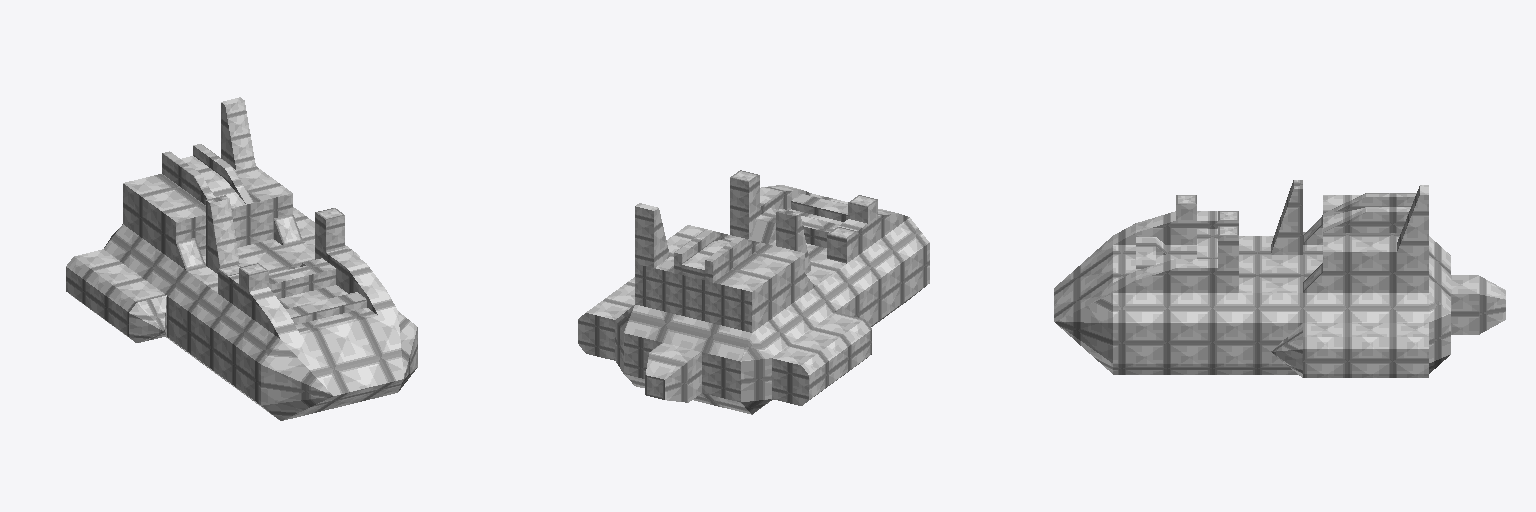
3 renders of one model, left to right at view 1: azimuth 30°, elevation 25°; view 2: azimuth 150°, elevation 25°; view 3: azimuth 270°, elevation 25°, orthographic.
Visible parts, largest first — view 1: Destroyer_Cube; view 2: Destroyer_Cube; view 3: Destroyer_Cube.
Boxes of the visible parts, box(x1,y1,x2,y2) form: Destroyer_Cube: box(66, 97, 417, 420); Destroyer_Cube: box(578, 170, 929, 414); Destroyer_Cube: box(1054, 180, 1505, 377).
Bounding box in the file's own units: 74 × 55 × 125.
1 materials, 1 textured.